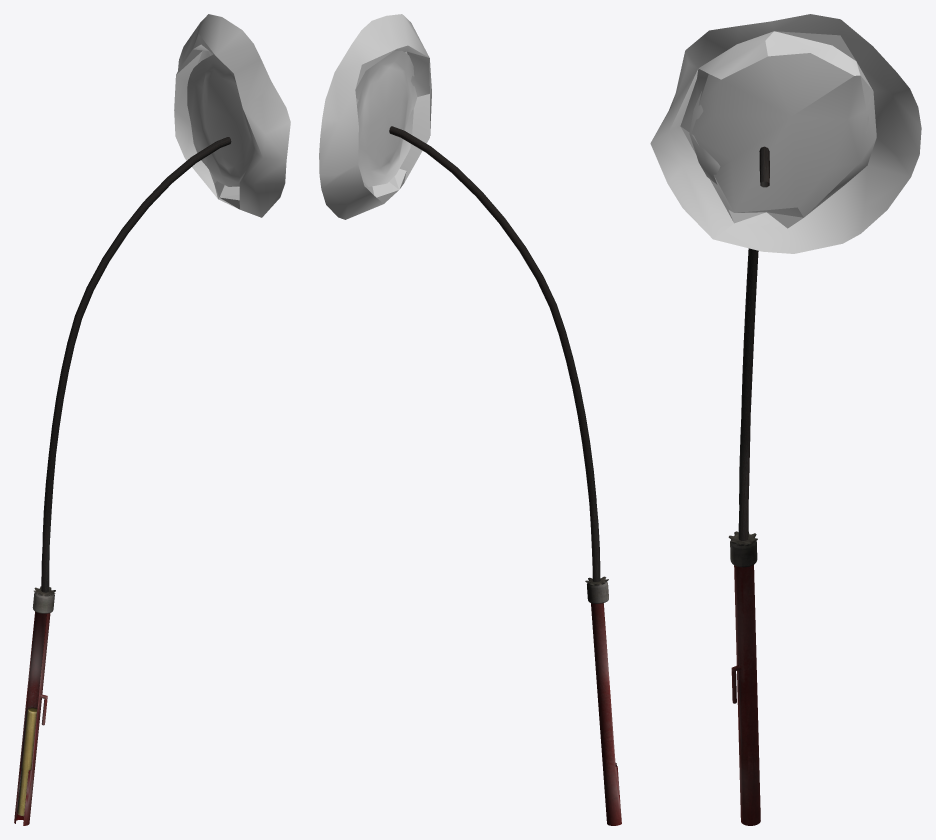
Rendered from misfire.fbx.
The picture shows the model from 3 angles, left to right: view 1: azimuth 30°, elevation 25°; view 2: azimuth 150°, elevation 25°; view 3: azimuth 270°, elevation 25°; orthographic projection. The views are drawn at different scales.
Visible parts, largest first — view 1: Cylinder.001, Missfired Explosives; view 2: Cylinder.001, Missfired Explosives; view 3: Cylinder.001, Missfired Explosives.
Part boxes in pixels (<box>): Cylinder.001: <box>174,14,290,217</box>; Missfired Explosives: <box>14,137,231,825</box>; Cylinder.001: <box>319,14,431,219</box>; Missfired Explosives: <box>389,126,621,825</box>; Cylinder.001: <box>650,14,921,253</box>; Missfired Explosives: <box>728,146,769,825</box>.
Size of the model in its own units: 8.53 by 22.31 by 5.78.
